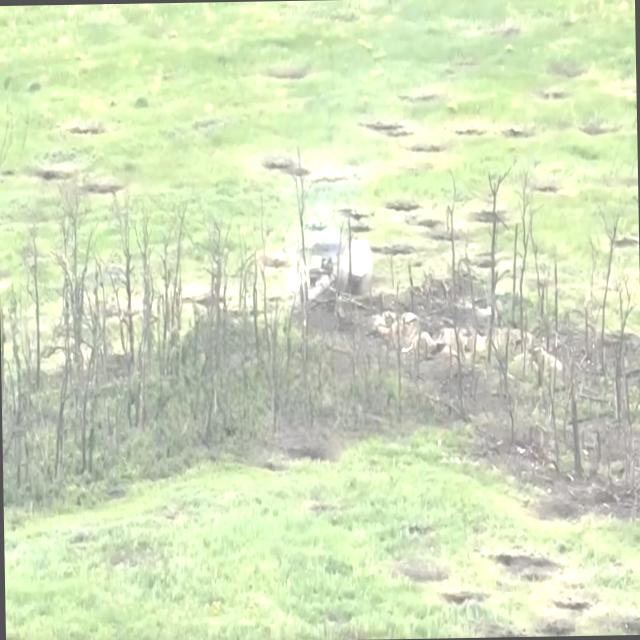AIFV: (307, 255, 368, 297)
